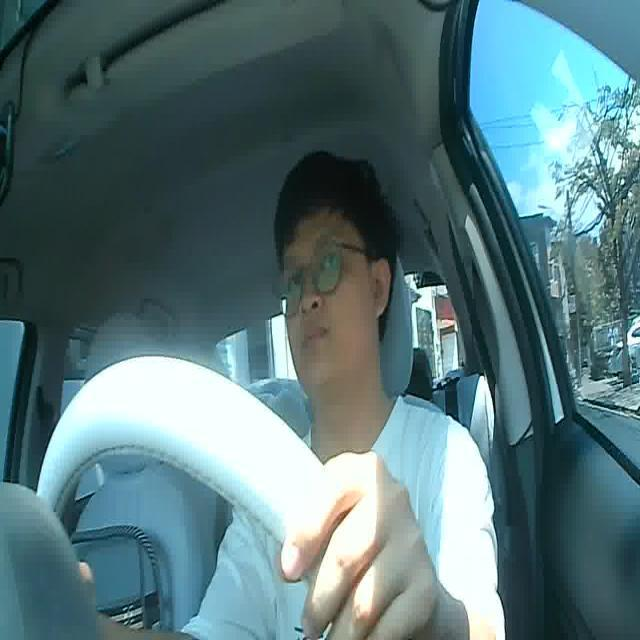Attentive: (266, 149, 402, 391)
Eye-Open: (318, 252, 342, 275), (285, 270, 308, 293)
Normal: (301, 322, 328, 352)
